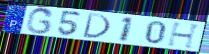0: (144, 20, 169, 45)
1: (120, 16, 134, 44)
5: (56, 9, 84, 38)
D: (81, 12, 113, 40)
G: (24, 7, 56, 35)
H: (166, 22, 203, 50)
